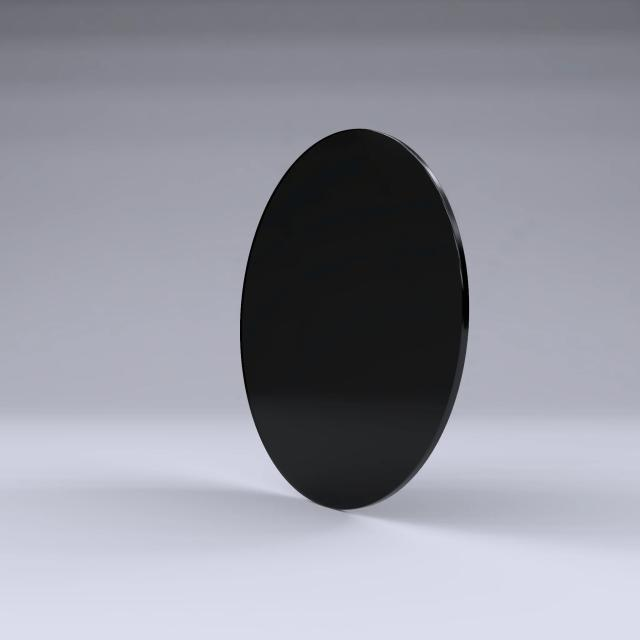hidden camera: (192, 130, 569, 549)
